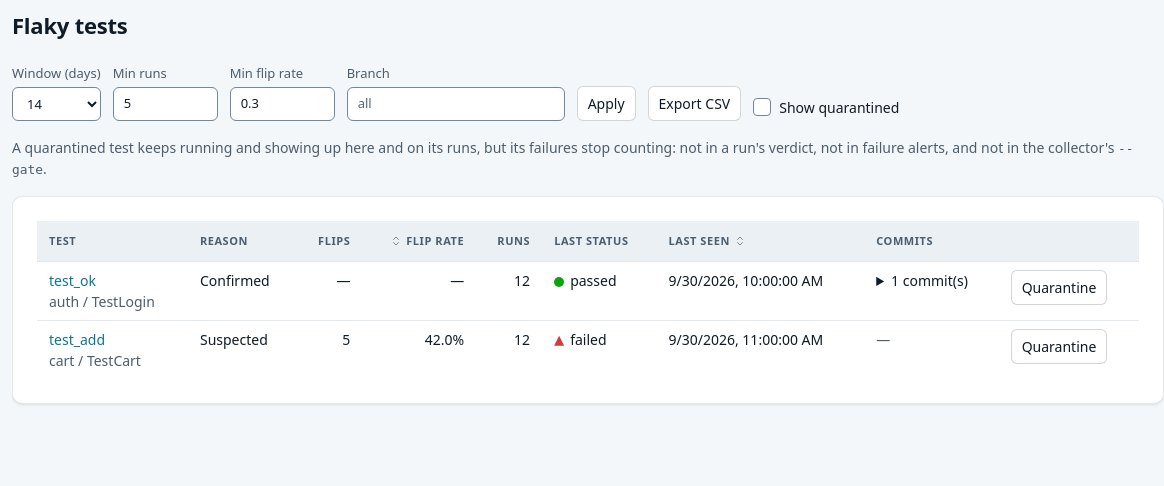
Test: Quarantine says what it does before acting
Check: the link "test_ok" is shown, box 49,271 -> 96,290
Click the button "Quarantine" in the row of "test_ok" at (1059, 287), box 1011,270 -> 1107,305
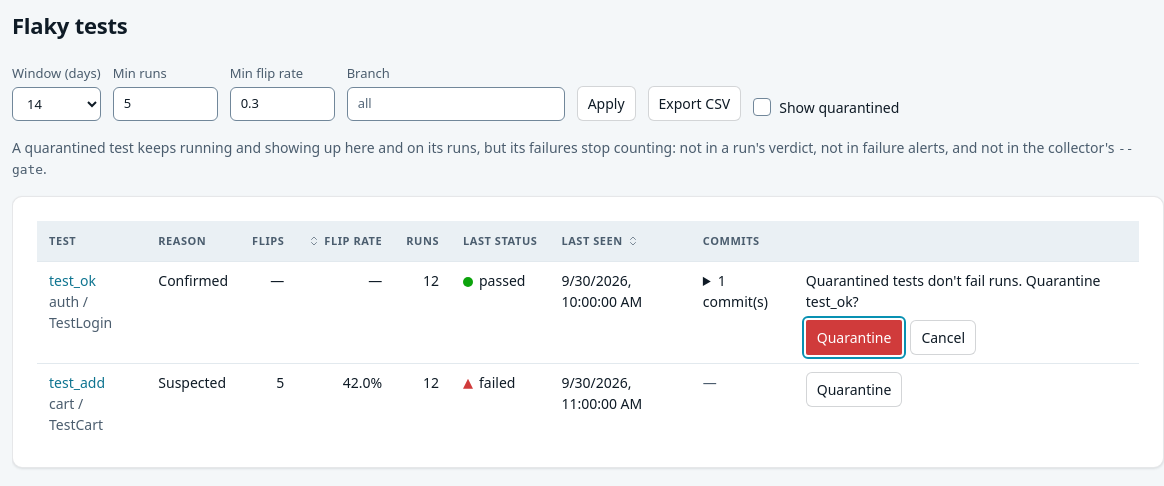
Check: the text "Quarantined tests don't fail runs. Quarantine test_ok?" is shown, box 806,270 -> 1127,312
Click the button "Cancel" at (943, 337), box 910,320 -> 976,355
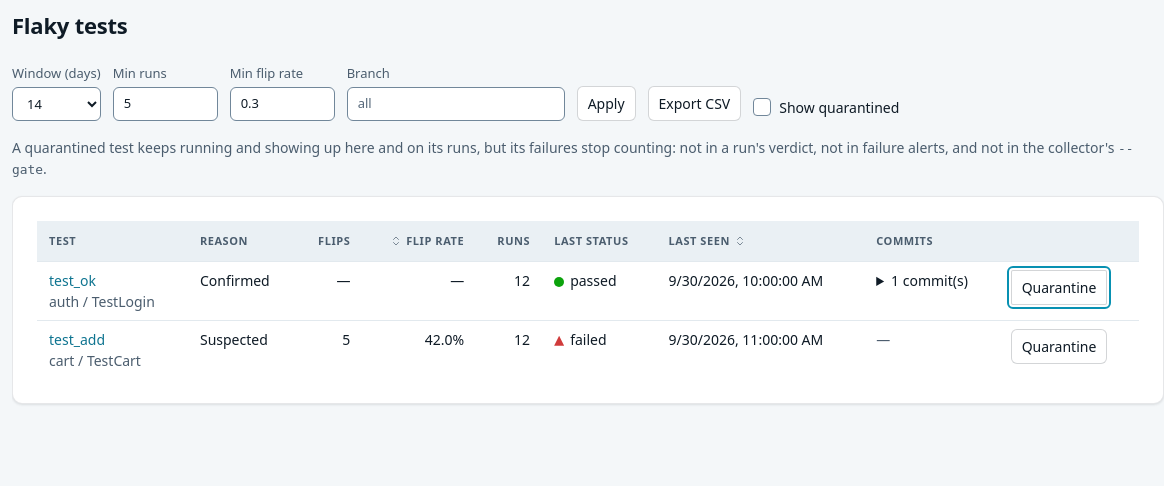
Check: the text "Quarantined tests don't fail runs" is gone
